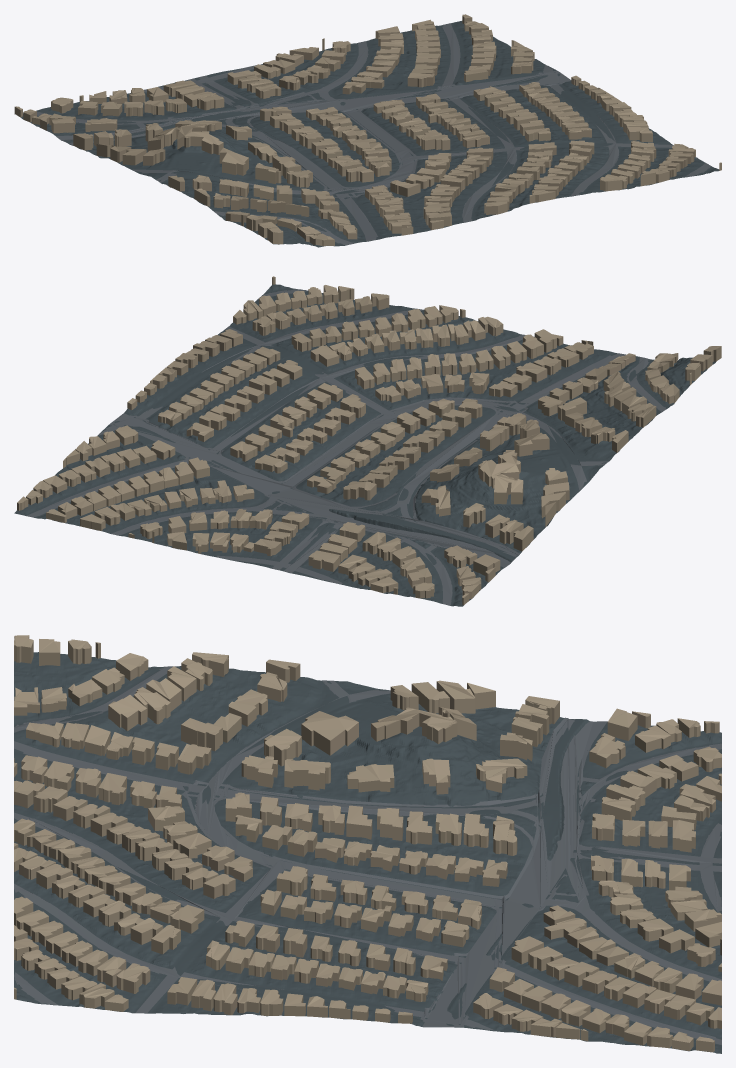
Rendered from epsg26910-1426-10875.lod0.glb.
The picture shows the model from 3 angles, top to bottom: view 1: azimuth 30°, elevation 25°; view 2: azimuth 150°, elevation 25°; view 3: azimuth 270°, elevation 25°; orthographic projection. The views are drawn at different scales.
Parts seen in each view (by area): view 1: epsg26910-1426-10875-lod0; view 2: epsg26910-1426-10875-lod0; view 3: epsg26910-1426-10875-lod0.
Boxes of the visible parts, <box> form: epsg26910-1426-10875-lod0: <box>14,14,721,247</box>; epsg26910-1426-10875-lod0: <box>14,276,721,606</box>; epsg26910-1426-10875-lod0: <box>14,635,721,1053</box>.
Size of the model in its own units: 384 by 71.51 by 384.
